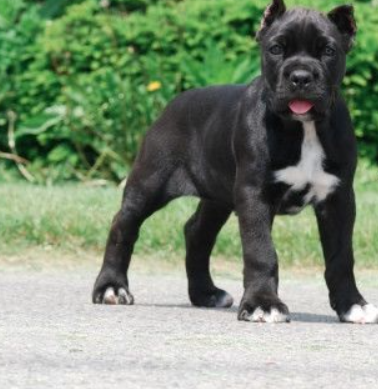dog: (91, 2, 371, 320)
